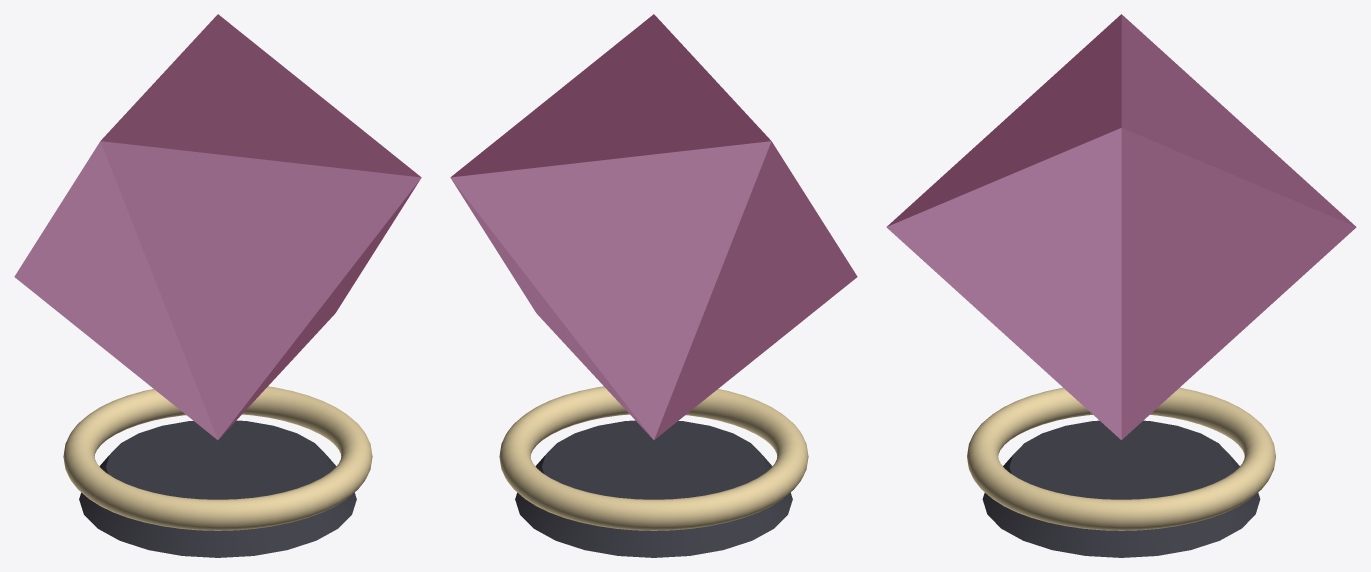
Rendered from diamond.glb.
The picture shows the model from 3 angles, left to right: view 1: azimuth 30°, elevation 25°; view 2: azimuth 150°, elevation 25°; view 3: azimuth 270°, elevation 25°; orthographic projection.
Visible parts, largest first — view 1: gem, base, ring; view 2: gem, base, ring; view 3: gem, base, ring.
Part boxes in pixels (x1,y1,x2,y2): gem: (14, 14, 421, 439); base: (79, 420, 356, 557); ring: (63, 386, 372, 530); gem: (450, 14, 857, 439); base: (515, 420, 792, 557); ring: (499, 386, 808, 530); gem: (886, 14, 1356, 439); base: (982, 420, 1260, 557); ring: (967, 387, 1275, 530).
Bounding box in the file's own units: 2.1 × 2.39 × 2.1.
